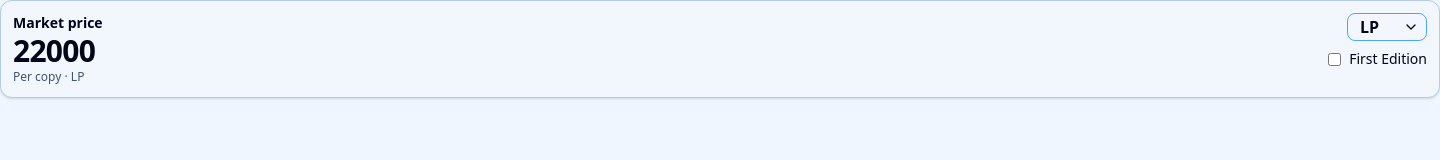
Scenario: uses the selected edition only, without falling back to Unlimited prices
expect the text "22000" is shown: met, box [13,33,103,69]
Click the checkbox labelled "First Edition".
click(1335, 59)  # box [1328,52,1341,66]
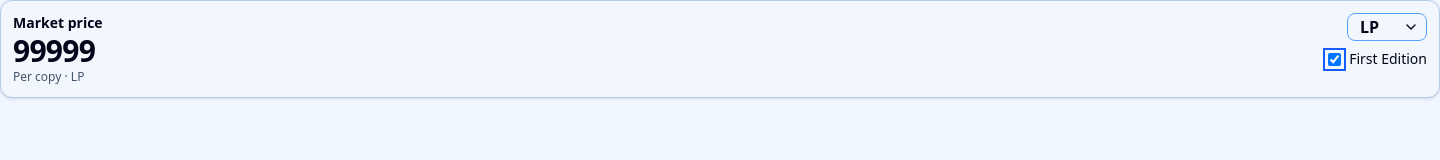
expect the text "99999" is shown: met, box [13,33,103,69]
Select "HP" in the dropdown named "Price condition" at (1387, 27), box [1347,13,1427,41]
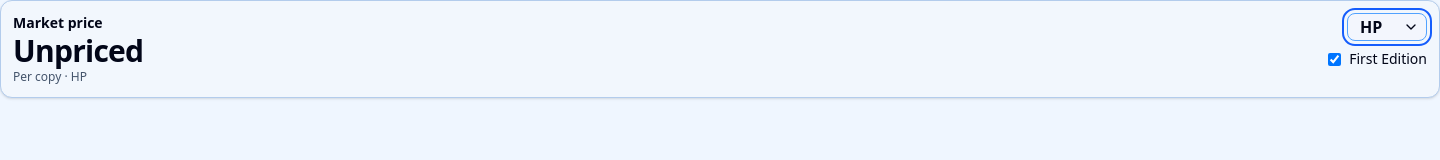
expect the text "Unpriced" is shown: met, box [13,33,143,69]
